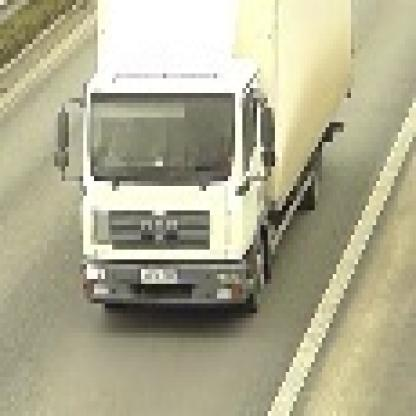truck: (56, 1, 349, 319)
